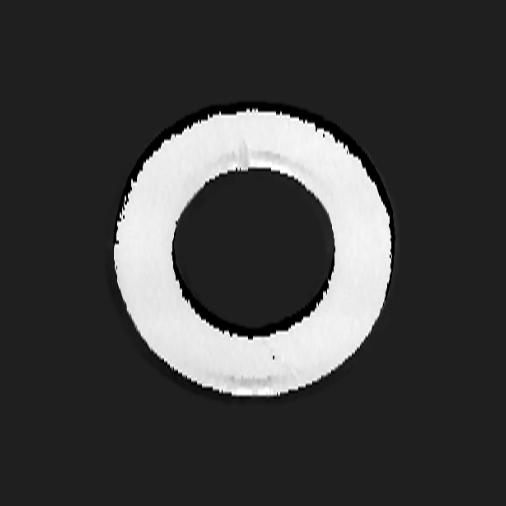defect: (272, 353, 275, 363)
